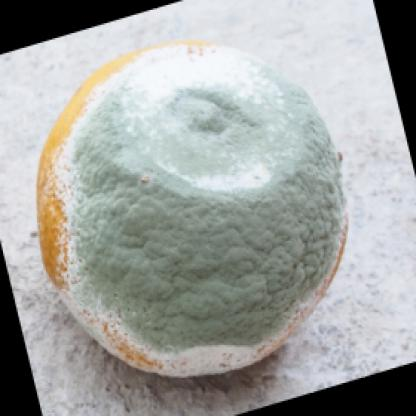rotten_orange: (22, 36, 358, 415)
